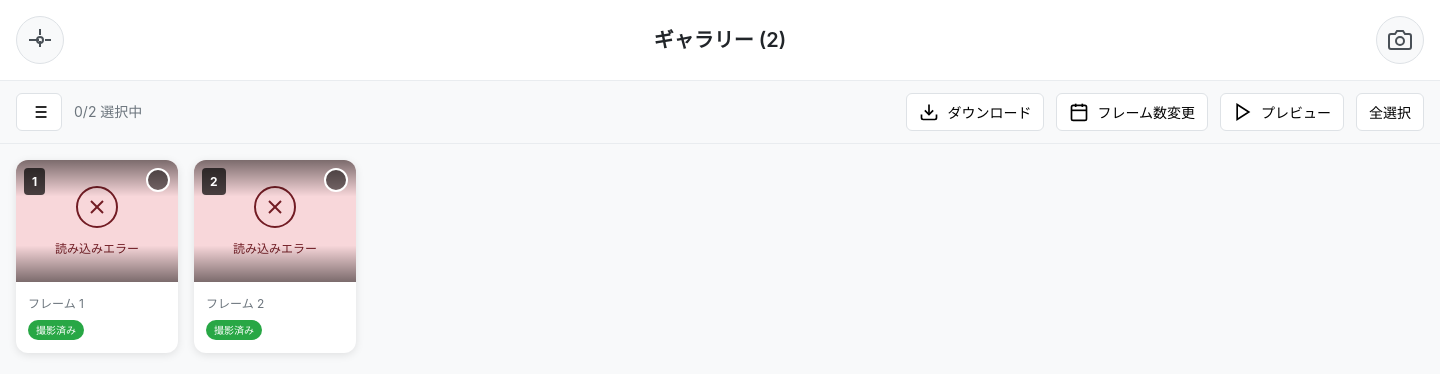
Test: GalleryView › should select frames when clicked
Click the 1st element with class "frame-checkbox" at (158, 180), box [146,168,170,192]
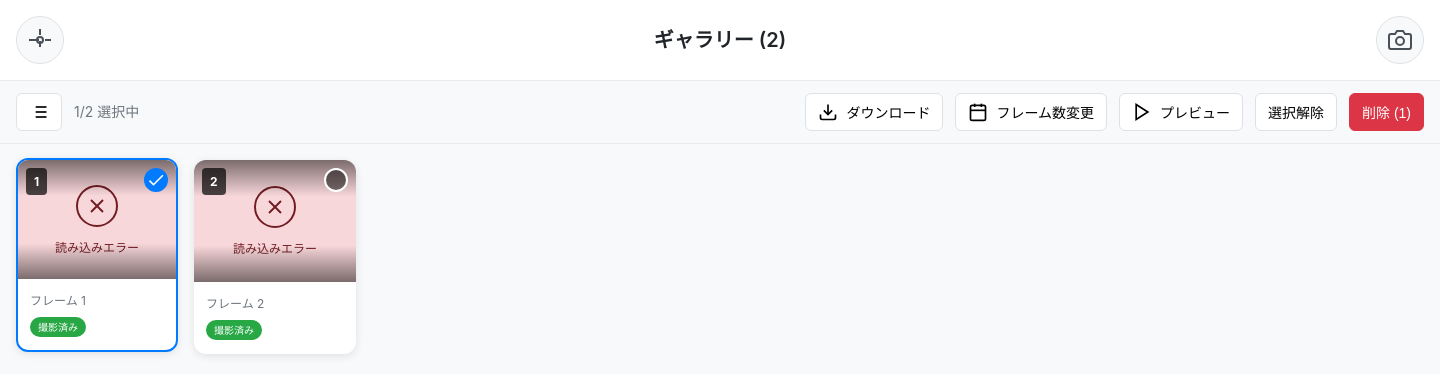
Expected: the text with class "frame-count" reads "1/2 選択中", [74,103,139,120]
